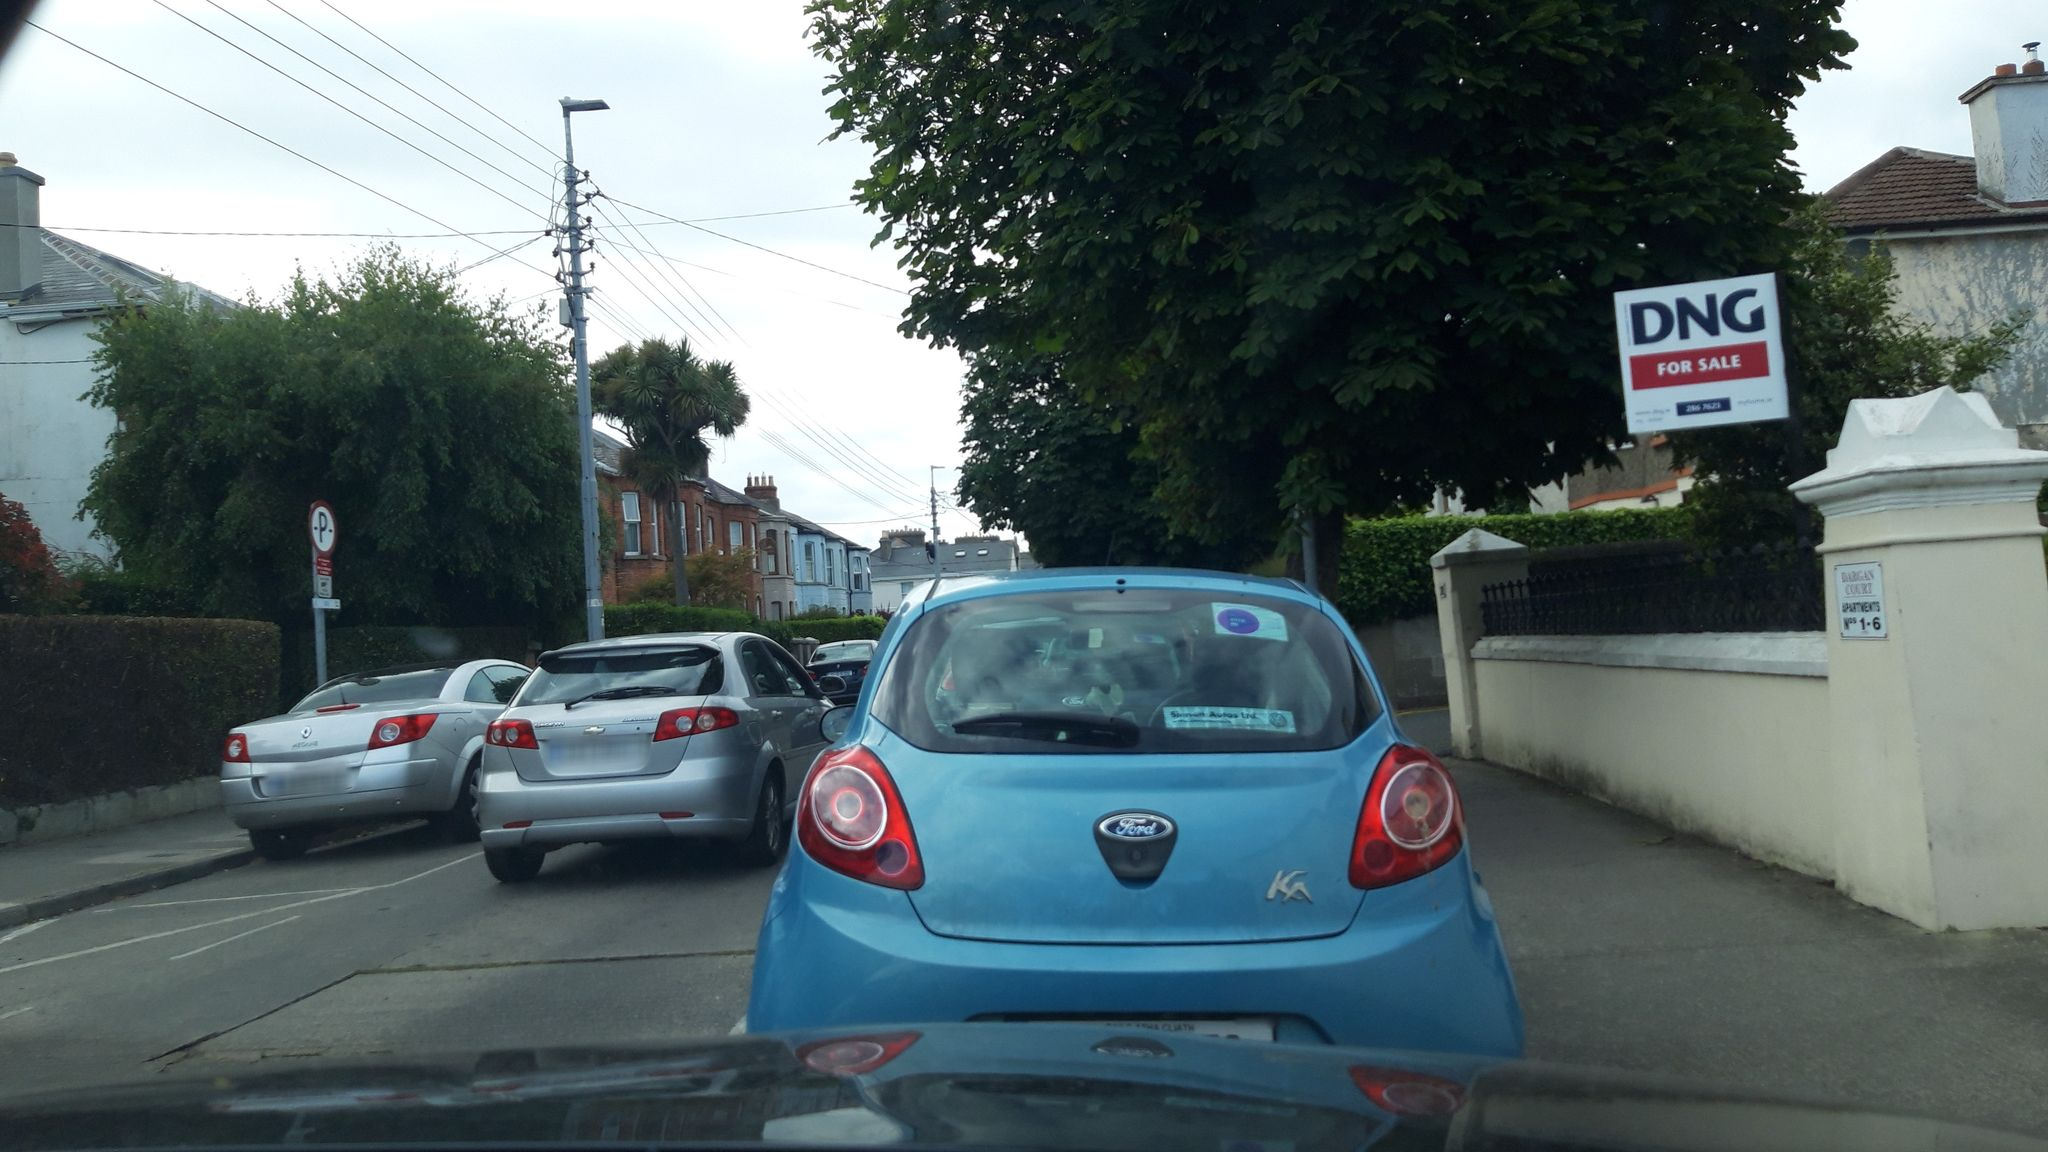property sign: (1596, 250, 1813, 449)
